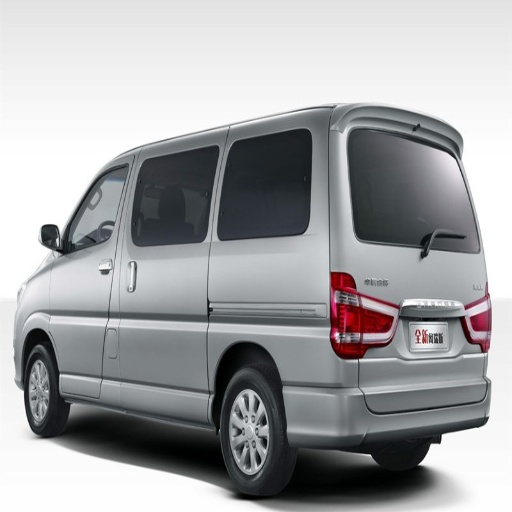back_bumper: (292, 345, 491, 448)
back_glass: (353, 171, 476, 251)
back_left_door: (120, 198, 140, 303)
back_left_light: (329, 271, 361, 358)
back_right_door: (140, 169, 201, 242), (61, 353, 100, 395)
tailgate: (433, 252, 485, 322)
trunk: (344, 252, 477, 410), (217, 305, 348, 417)
